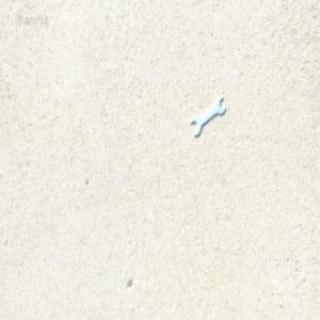Wrenchtrack_idkeyframe: (189, 98, 222, 136)
